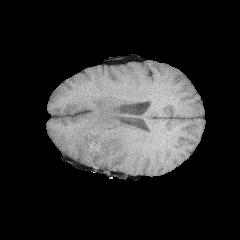glioma: (66, 98, 130, 170)
